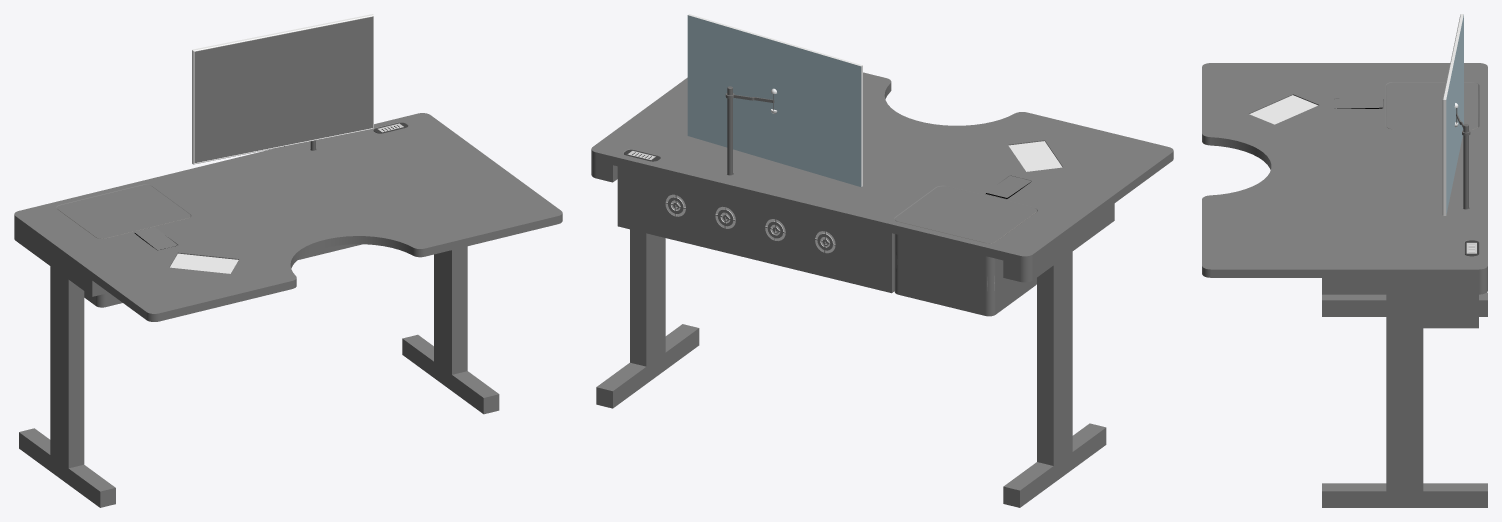
The model's file is desk_smart.dae.
3 renders of one model, left to right at view 1: azimuth 30°, elevation 25°; view 2: azimuth 150°, elevation 25°; view 3: azimuth 270°, elevation 25°, orthographic. The views are drawn at different scales.
Visible parts, largest first — view 1: mesh_4_book_case-1-solid2_001, mesh_5_book_case-1-solid2_face_001; view 2: mesh_4_book_case-1-solid2_001, mesh_10_usb_ponts-1-solid5_face_001, mesh_5_book_case-1-solid2_face_001, mesh_8_led_rod_part2_-1-solid1_001; view 3: mesh_4_book_case-1-solid2_001, mesh_10_usb_ponts-1-solid5_face_001, mesh_5_book_case-1-solid2_face_001, mesh_8_led_rod_part2_-1-solid1_001, mesh_19_lamp_arm1-1-solid1_001.
Part boxes in pixels (x1,y1,x2,y2): mesh_4_book_case-1-solid2_001: (14,17,562,507); mesh_5_book_case-1-solid2_face_001: (170,14,399,273); mesh_4_book_case-1-solid2_001: (591,72,1173,507); mesh_10_usb_ponts-1-solid5_face_001: (687,15,861,186); mesh_5_book_case-1-solid2_face_001: (633,14,1062,252); mesh_8_led_rod_part2_-1-solid1_001: (725,86,774,175); mesh_4_book_case-1-solid2_001: (1202,63,1487,507); mesh_10_usb_ponts-1-solid5_face_001: (1446,15,1463,214); mesh_5_book_case-1-solid2_face_001: (1249,14,1474,252); mesh_8_led_rod_part2_-1-solid1_001: (1456,108,1470,209); mesh_19_lamp_arm1-1-solid1_001: (1334,97,1382,108).
Size of the model in its own units: 1.35 by 0.7874 by 1.14.
